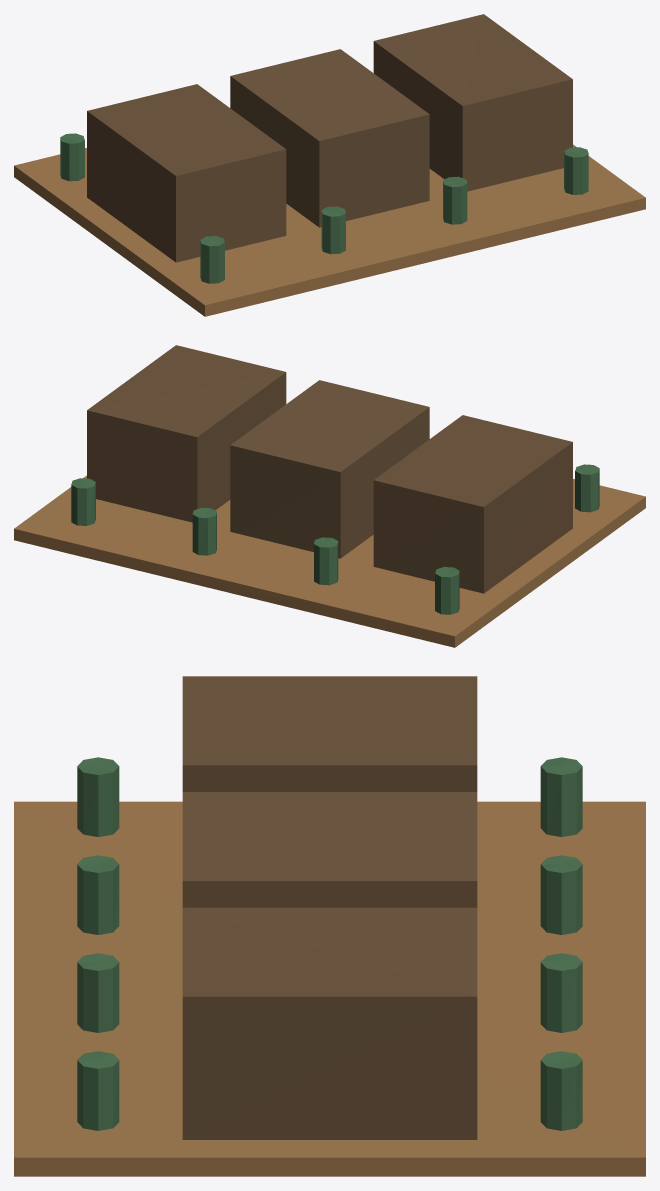
File: compost-ecosystem.source.glb
The picture shows the model from 3 angles, top to bottom: view 1: azimuth 30°, elevation 25°; view 2: azimuth 150°, elevation 25°; view 3: azimuth 270°, elevation 25°; orthographic projection. The views are drawn at different scales.
Parts seen in each view (by area): view 1: compost-ecosystem-base-mesh, compost-ecosystem-bin-0-mesh, compost-ecosystem-bin-2-mesh, compost-ecosystem-bin-1-mesh, compost-ecosystem-plant-6-mesh, compost-ecosystem-plant-5-mesh, compost-ecosystem-plant-7-mesh, compost-ecosystem-plant-4-mesh, compost-ecosystem-plant-0-mesh; view 2: compost-ecosystem-base-mesh, compost-ecosystem-bin-0-mesh, compost-ecosystem-bin-2-mesh, compost-ecosystem-bin-1-mesh, compost-ecosystem-plant-2-mesh, compost-ecosystem-plant-1-mesh, compost-ecosystem-plant-3-mesh, compost-ecosystem-plant-0-mesh, compost-ecosystem-plant-4-mesh; view 3: compost-ecosystem-base-mesh, compost-ecosystem-bin-2-mesh, compost-ecosystem-bin-0-mesh, compost-ecosystem-bin-1-mesh, compost-ecosystem-plant-2-mesh, compost-ecosystem-plant-3-mesh, compost-ecosystem-plant-6-mesh, compost-ecosystem-plant-7-mesh, compost-ecosystem-plant-0-mesh, compost-ecosystem-plant-4-mesh, compost-ecosystem-plant-1-mesh, compost-ecosystem-plant-5-mesh.
Part boxes in pixels (box(x1,y1,x2,y2)): compost-ecosystem-base-mesh: box(14, 144, 645, 316); compost-ecosystem-bin-0-mesh: box(87, 84, 286, 262); compost-ecosystem-bin-2-mesh: box(373, 14, 572, 191); compost-ecosystem-bin-1-mesh: box(230, 49, 429, 227); compost-ecosystem-plant-6-mesh: box(443, 176, 467, 224); compost-ecosystem-plant-5-mesh: box(321, 206, 345, 254); compost-ecosystem-plant-7-mesh: box(564, 147, 588, 194); compost-ecosystem-plant-4-mesh: box(200, 236, 224, 283); compost-ecosystem-plant-0-mesh: box(60, 133, 84, 181); compost-ecosystem-base-mesh: box(14, 475, 645, 647); compost-ecosystem-bin-0-mesh: box(373, 415, 572, 593); compost-ecosystem-bin-2-mesh: box(87, 345, 286, 522); compost-ecosystem-bin-1-mesh: box(230, 380, 429, 558); compost-ecosystem-plant-2-mesh: box(192, 507, 216, 555); compost-ecosystem-plant-1-mesh: box(314, 537, 338, 585); compost-ecosystem-plant-3-mesh: box(71, 478, 95, 525); compost-ecosystem-plant-0-mesh: box(435, 567, 459, 614); compost-ecosystem-plant-4-mesh: box(575, 464, 599, 512); compost-ecosystem-base-mesh: box(14, 801, 645, 1176); compost-ecosystem-bin-2-mesh: box(182, 907, 477, 1139); compost-ecosystem-bin-0-mesh: box(182, 676, 477, 791); compost-ecosystem-bin-1-mesh: box(182, 792, 477, 907); compost-ecosystem-plant-2-mesh: box(540, 953, 582, 1032); compost-ecosystem-plant-3-mesh: box(540, 1051, 582, 1130); compost-ecosystem-plant-6-mesh: box(77, 953, 119, 1032); compost-ecosystem-plant-7-mesh: box(77, 1051, 119, 1130); compost-ecosystem-plant-0-mesh: box(540, 757, 582, 836); compost-ecosystem-plant-4-mesh: box(77, 757, 119, 836); compost-ecosystem-plant-1-mesh: box(540, 855, 582, 934); compost-ecosystem-plant-5-mesh: box(77, 855, 119, 934).
Bounding box in the file's own units: 4 × 0.85 × 3.
